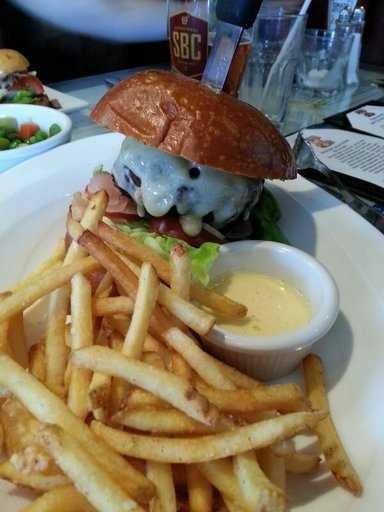hamburger: (56, 75, 310, 274)
